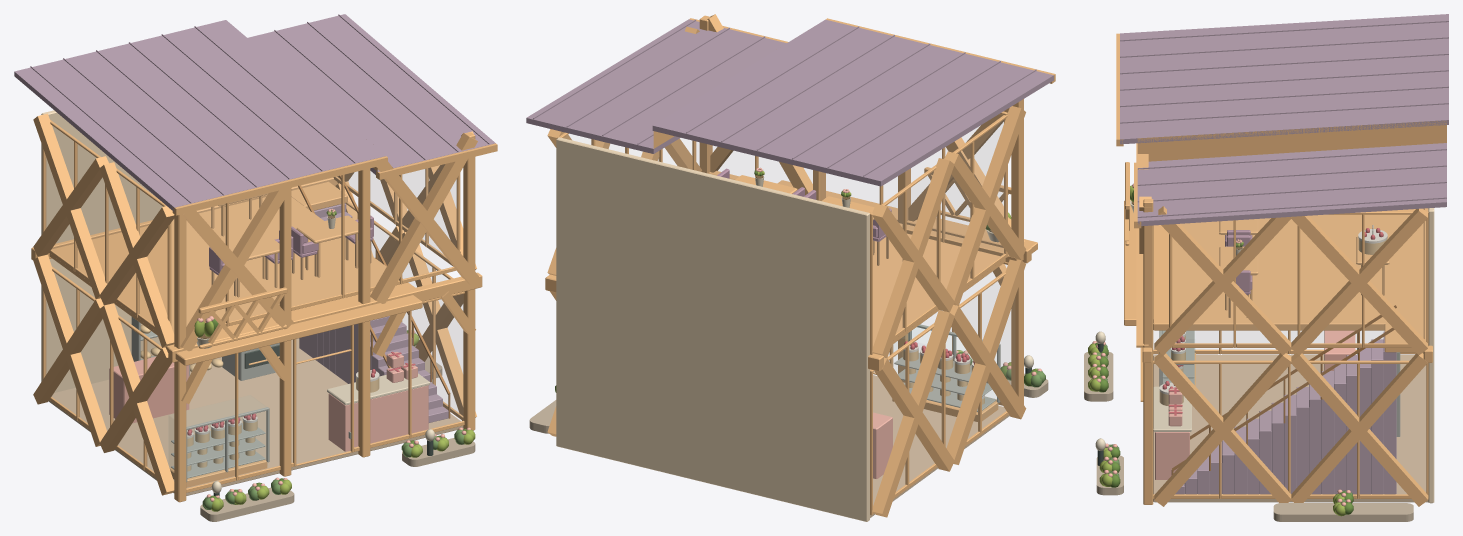
3 views of the same model, side by side, from view 1: azimuth 30°, elevation 25°; view 2: azimuth 150°, elevation 25°; view 3: azimuth 270°, elevation 25° (orthographic). The views are drawn at different scales.
Visible parts, largest first — view 1: R 左高紫灰屋面, A 外露交叉木架, R 右低紫灰屋面, S 二层楼面, A 木立柱, S 一层楼面, A 前交叉木架, A 实体后墙, S 梯级, I 装饰柜, S 前挑露台, R 立缝 (+26 smaller); view 2: A 实体后墙, R 左高紫灰屋面, A 外露交叉木架, R 右低紫灰屋面, S 二层楼面, A 木立柱, R 立缝, S 一层楼面, A 上层侧玻璃, A 前交叉木架, A 侧立面玻璃, I 展柜托盘 (+7 smaller); view 3: R 左高紫灰屋面, A 外露交叉木架, R 右低紫灰屋面, S 二层楼面, S 梯级, S 一层楼面, R 高低屋面封边, R 立缝, A 侧立面玻璃, L 局部花池, A 木立柱, A 上层侧玻璃 (+18 smaller).
Part boxes in pixels (x1,y1,x2,y2): R 左高紫灰屋面: (14,20,385,211); A 外露交叉木架: (33,113,476,495); R 右低紫灰屋面: (248,14,495,174); S 二层楼面: (49,197,415,335); A 木立柱: (174,132,475,502); S 一层楼面: (48,338,463,495); A 前交叉木架: (180,133,478,351); A 实体后墙: (41,110,162,392); S 梯级: (299,203,448,422); I 装饰柜: (328,385,428,451); S 前挑露台: (165,295,422,365); R 立缝: (30,14,489,203); A 实体后墙: (556,137,869,521); R 左高紫灰屋面: (652,19,1053,186); A 外露交叉木架: (547,26,1026,517); R 右低紫灰屋面: (526,19,786,153); S 二层楼面: (873,223,1005,346); A 木立柱: (699,15,1023,404); R 立缝: (533,19,1036,176); S 一层楼面: (870,375,1009,517); A 上层侧玻璃: (557,115,1007,354); A 前交叉木架: (707,14,1024,241); A 侧立面玻璃: (870,270,1008,515); I 展柜托盘: (894,352,996,412); R 左高紫灰屋面: (1120,14,1448,144); A 外露交叉木架: (1154,206,1428,506); R 右低紫灰屋面: (1137,143,1446,226); S 二层楼面: (1153,208,1423,330); S 梯级: (1173,331,1396,494); S 一层楼面: (1153,355,1428,502); R 高低屋面封边: (1137,120,1446,161); R 立缝: (1120,20,1448,217); A 侧立面玻璃: (1153,330,1428,498); L 局部花池: (1084,352,1413,521); A 木立柱: (1143,199,1153,504); A 上层侧玻璃: (1169,211,1428,347).
Size of the model in its own units: 21.43 by 19.08 by 18.75.
